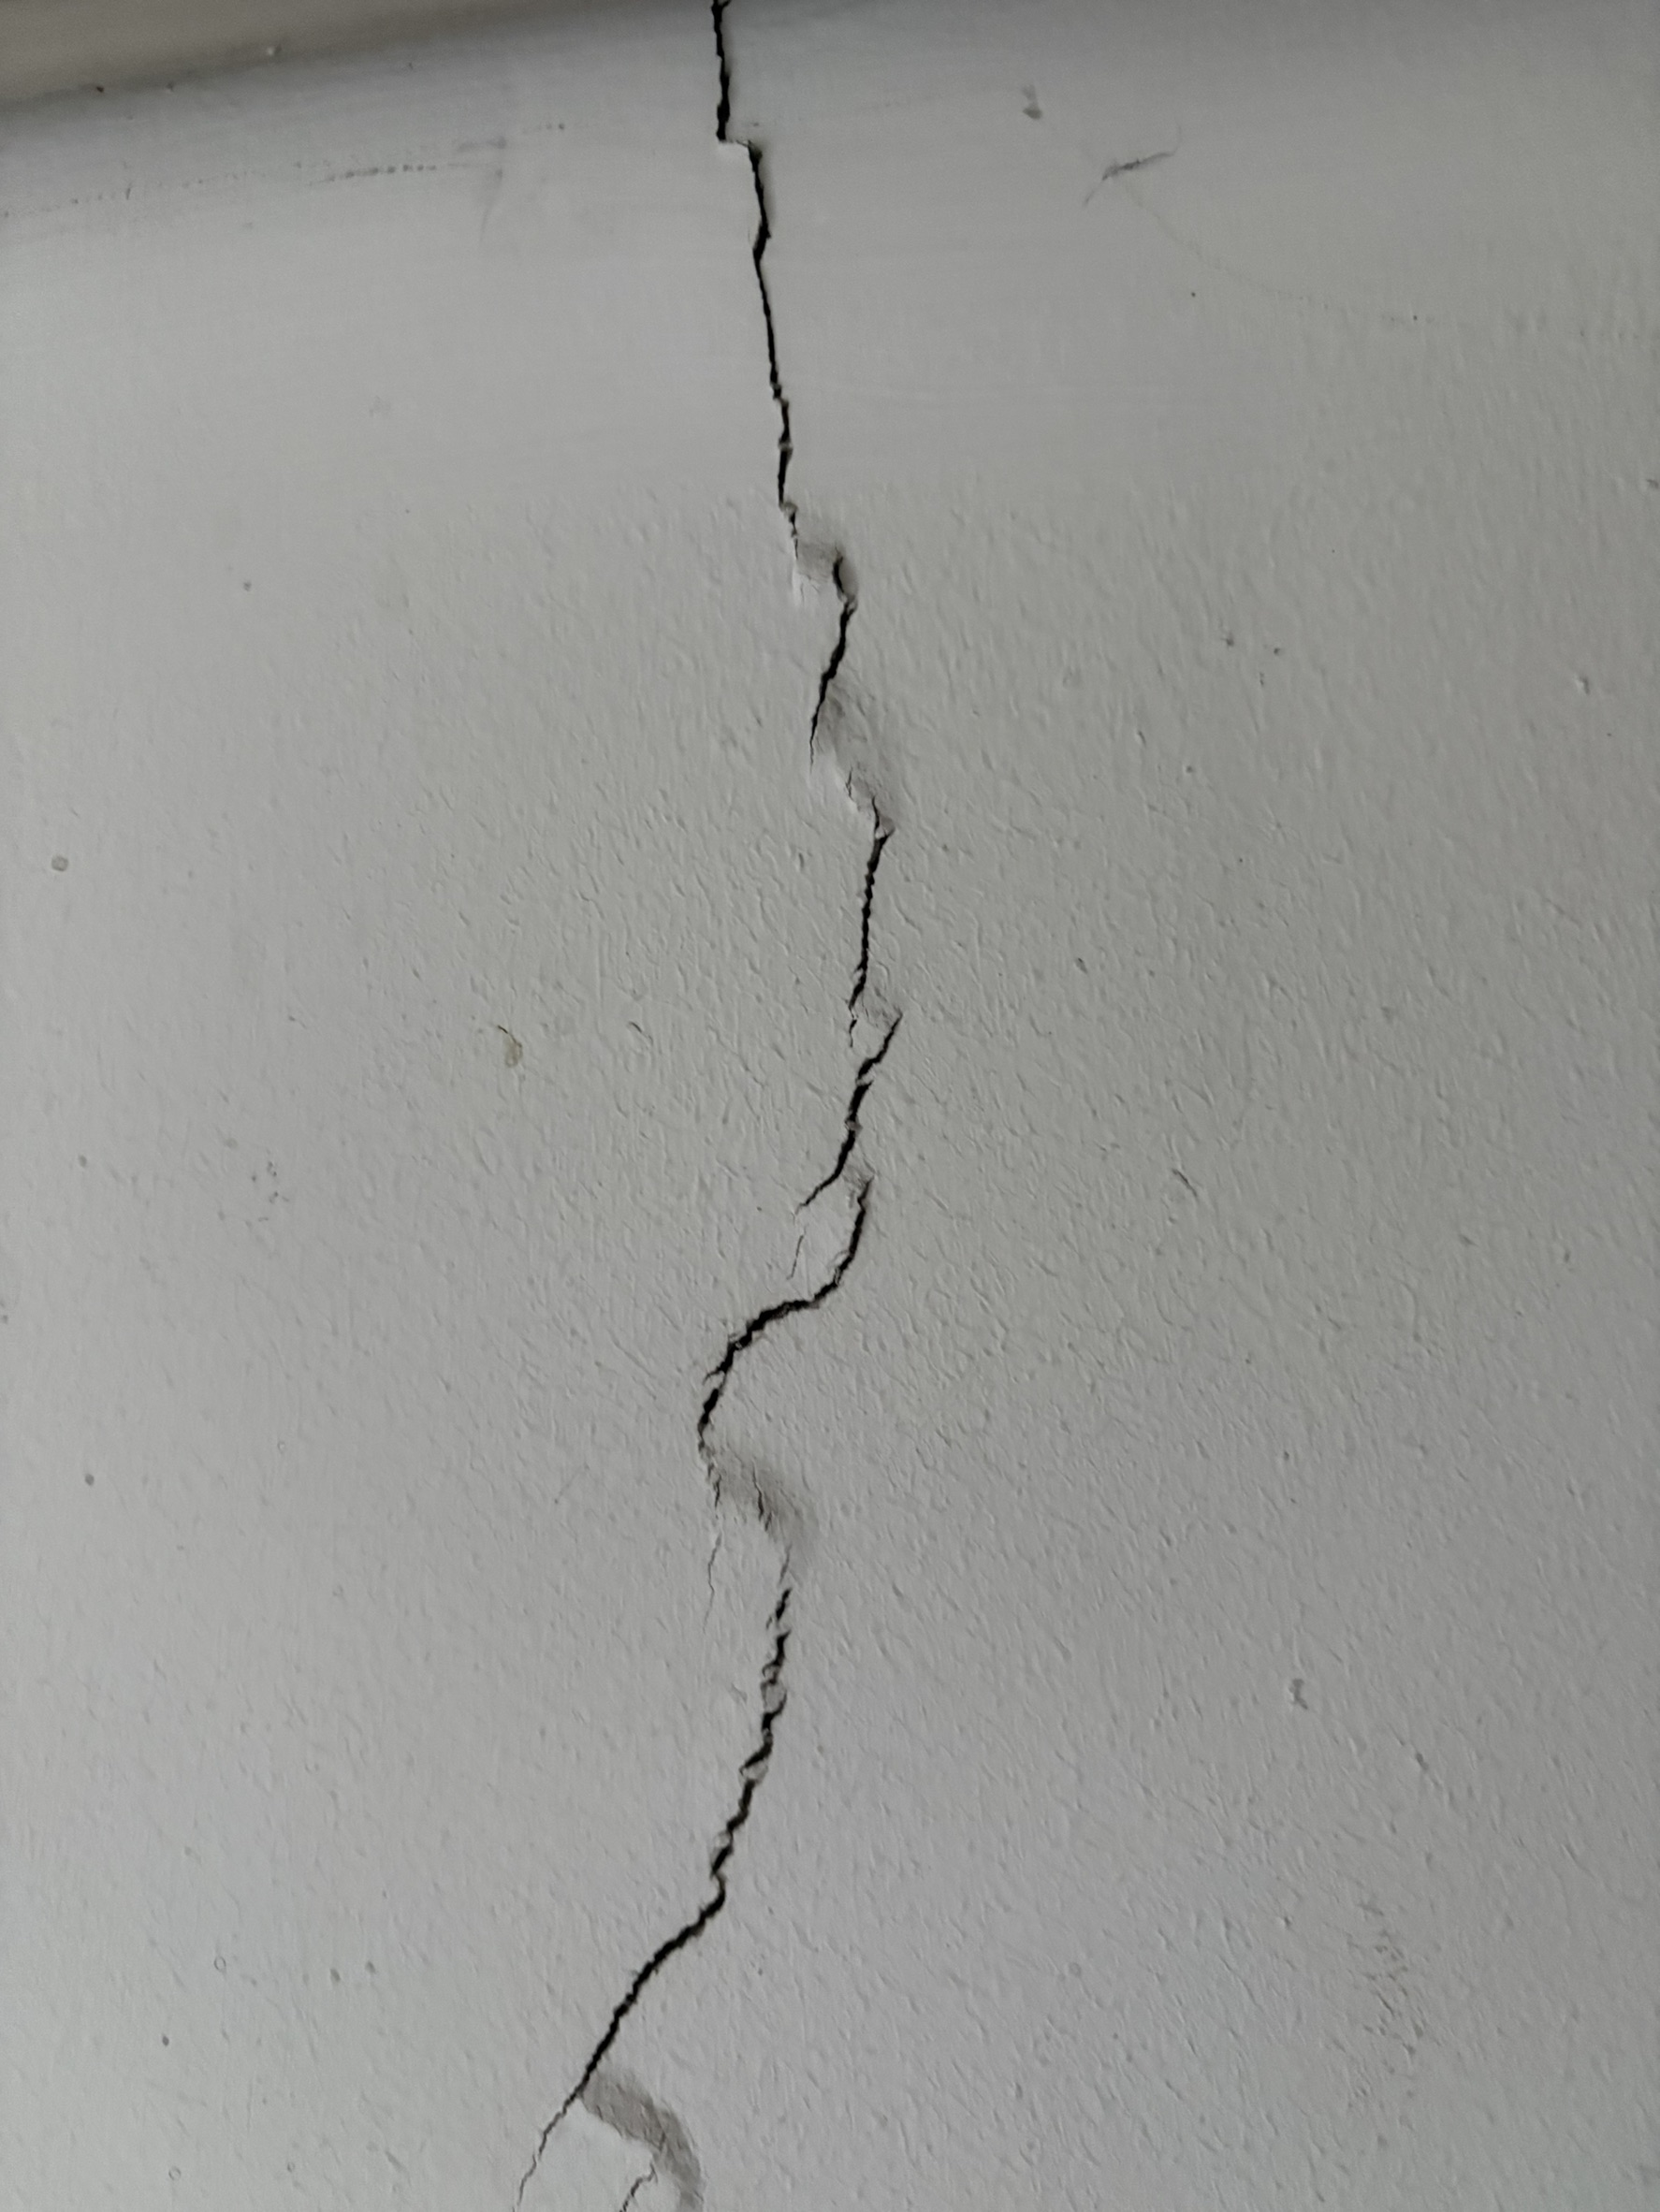Medium: (478, 71, 1027, 1989)
